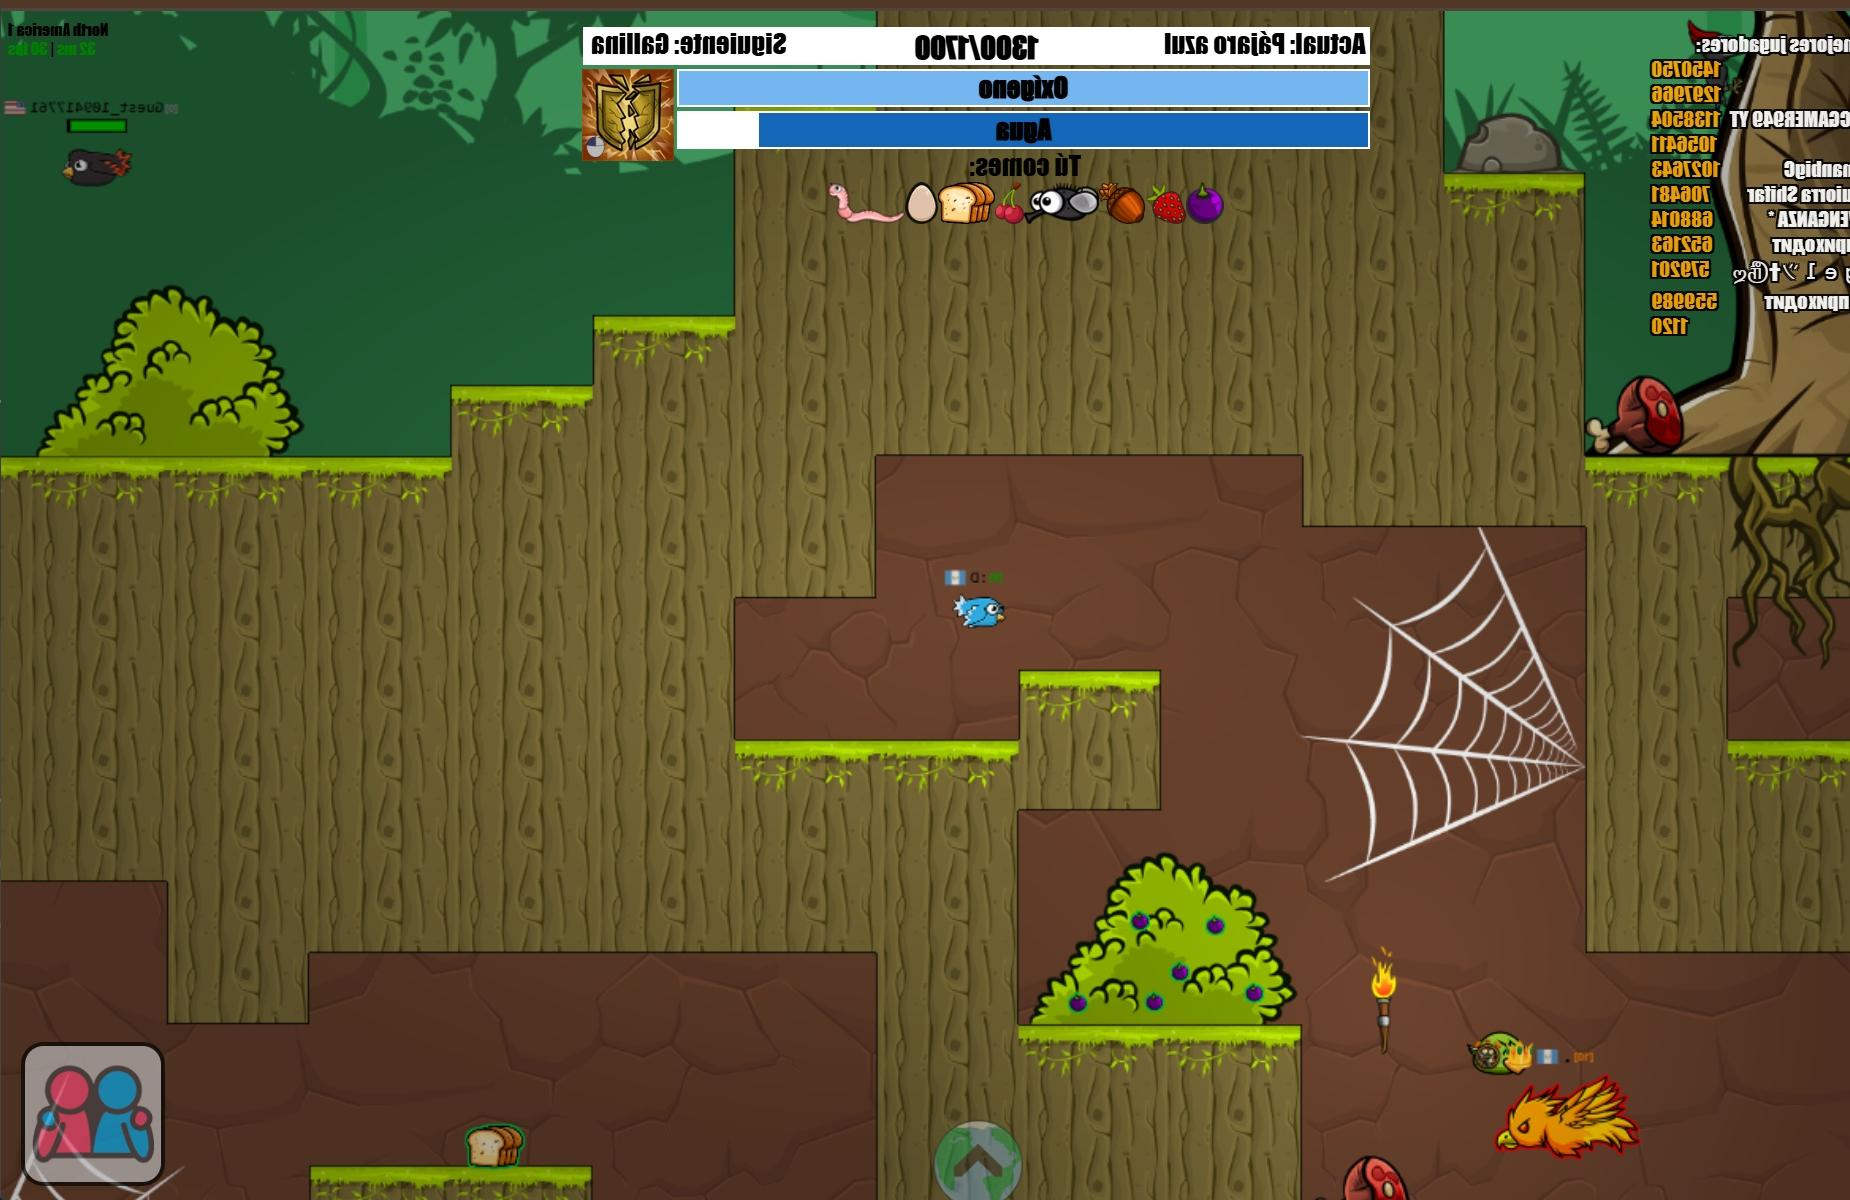arandano: (1168, 964, 1188, 982), (1142, 992, 1165, 1007), (1131, 914, 1149, 932), (1069, 995, 1085, 1013), (1245, 987, 1263, 1002), (1205, 918, 1223, 933)
arbusto: (31, 287, 297, 471), (1030, 855, 1288, 1027)
carne: (1586, 373, 1687, 456), (1587, 376, 1683, 453), (1346, 1157, 1405, 1200)
fenix: (1493, 1077, 1636, 1157)
mascota: (1475, 1031, 1528, 1076)
mirio: (58, 142, 131, 187)
p_azul: (955, 596, 1005, 628), (956, 597, 1005, 627)
pan: (462, 1123, 525, 1165)
raiz: (1731, 456, 1850, 665)
suelo: (8, 460, 724, 880)
tela: (1300, 529, 1580, 883)
vida: (62, 116, 128, 135)
